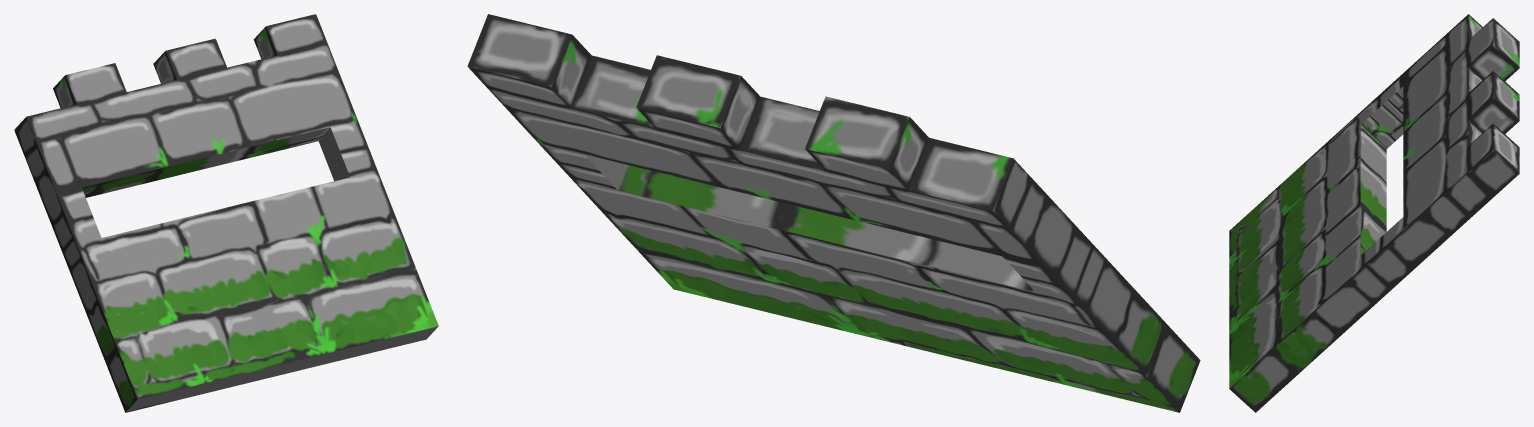
File: wall3.fbx
3 views of the same model, side by side, from view 1: azimuth 30°, elevation 25°; view 2: azimuth 150°, elevation 25°; view 3: azimuth 270°, elevation 25° (orthographic). The views are drawn at different scales.
Parts seen in each view (by area): view 1: polySurface3; view 2: polySurface3; view 3: polySurface3.
Part boxes in pixels (left/top/right/bottom): polySurface3: left=14, top=14, right=438, bottom=412; polySurface3: left=467, top=14, right=1200, bottom=412; polySurface3: left=1229, top=14, right=1519, bottom=412.
Size of the model in its own units: 80 by 62.11 by 62.11.
1 material, 1 textured.
